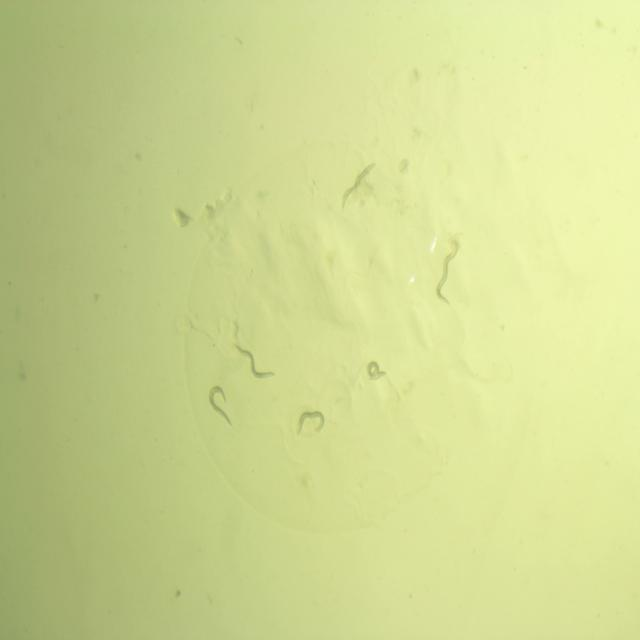worm: (338, 156, 380, 212), (229, 338, 280, 384), (433, 236, 461, 310), (205, 384, 238, 429), (292, 408, 326, 439), (362, 356, 390, 386)
